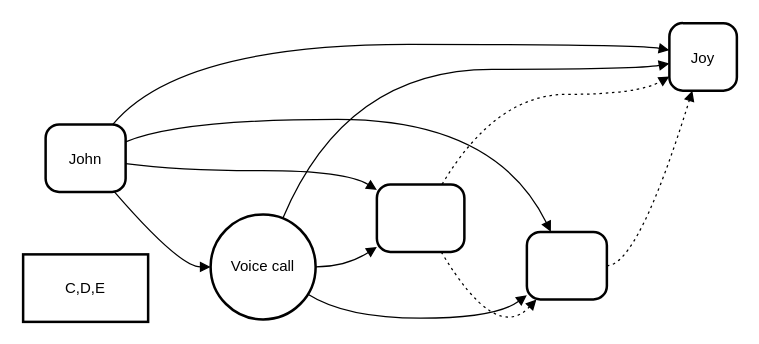
The diagram is 759 pixels wide and 344 high, and some of its shapes have lost their labels. Each missing label, with the centre of its shape:
Jane: (566,265)
Jared: (420,217)
